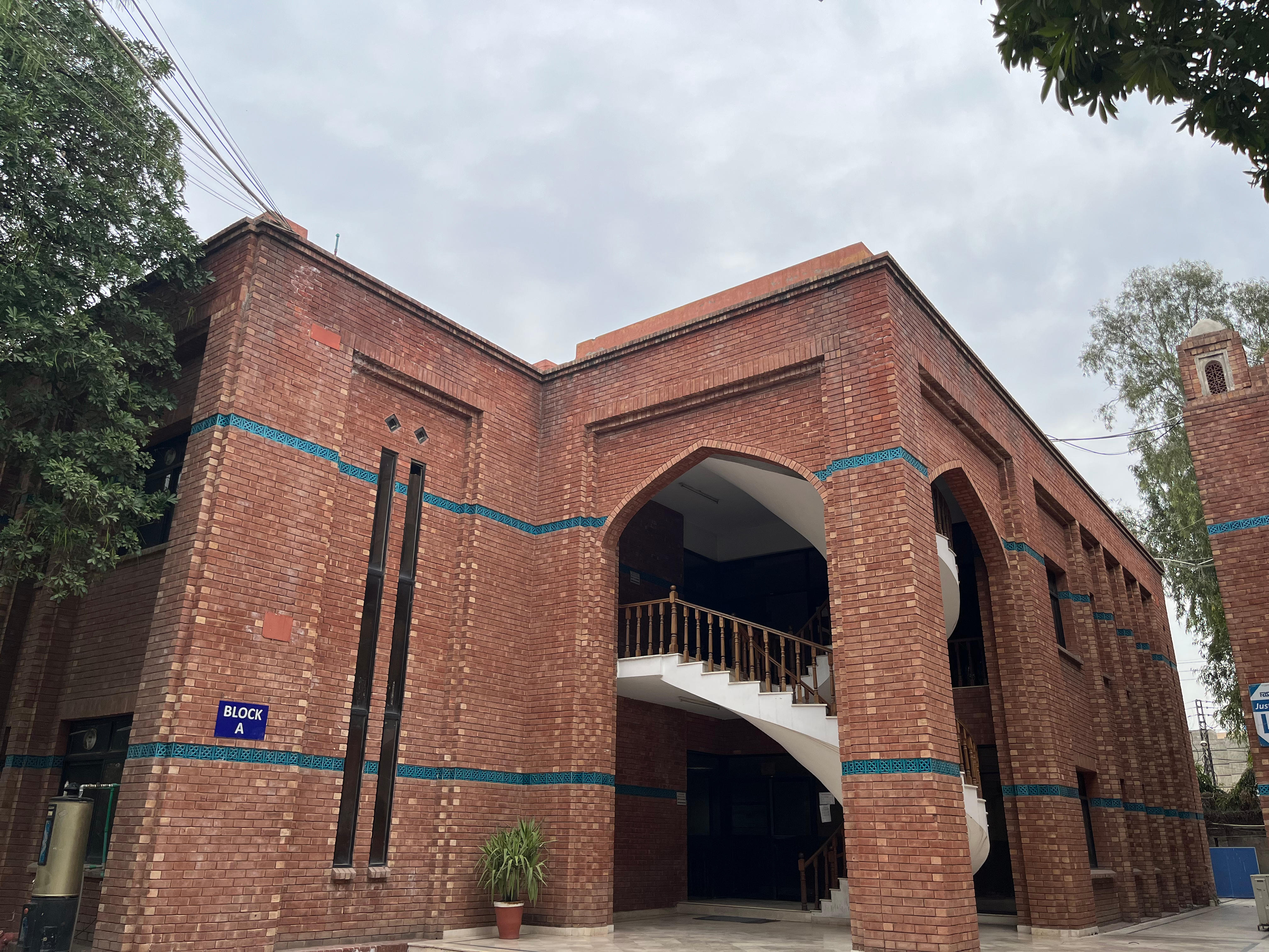Block A: (4, 206, 1214, 949)
